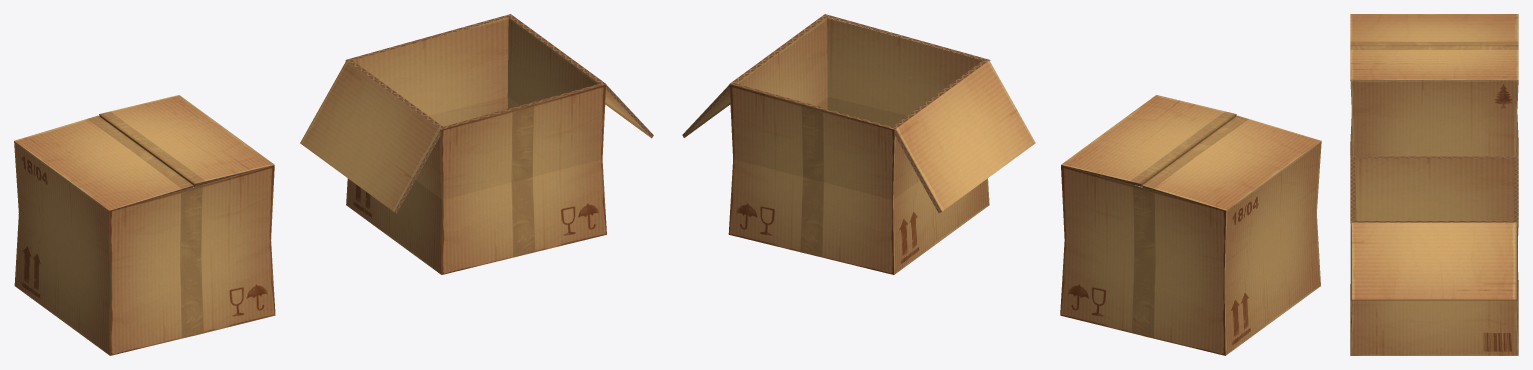
3 renders of one model, left to right at view 1: azimuth 30°, elevation 25°; view 2: azimuth 150°, elevation 25°; view 3: azimuth 270°, elevation 25°, orthographic. The views are drawn at different scales.
Visible parts, largest first — view 1: Box_Open_2, box.001; view 2: Box_Open_2, box.001; view 3: Box_Open_2, box.001.
Part boxes in pixels (left/top/right/bottom): Box_Open_2: left=300, top=14, right=653, bottom=274; box.001: left=14, top=95, right=275, bottom=355; Box_Open_2: left=682, top=14, right=1035, bottom=274; box.001: left=1060, top=95, right=1321, bottom=355; Box_Open_2: left=1350, top=156, right=1518, bottom=355; box.001: left=1350, top=14, right=1518, bottom=156.
Bounding box in the file's own units: 1.72 × 0.4573 × 0.5224.
1 material, 1 textured.
